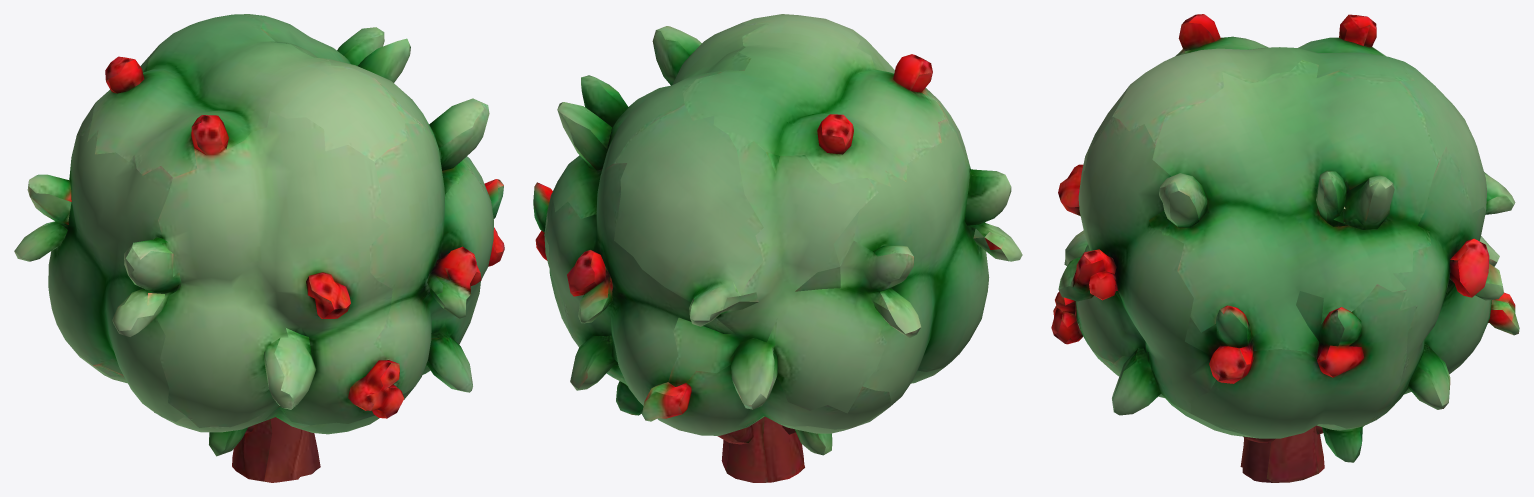
File: bush.glb
3 views of the same model, side by side, from view 1: azimuth 30°, elevation 25°; view 2: azimuth 150°, elevation 25°; view 3: azimuth 270°, elevation 25° (orthographic). The views are drawn at different scales.
Parts seen in each view (by area): view 1: bush_s15; view 2: bush_s15; view 3: bush_s15.
Part boxes in pixels (bbox=[...]): bush_s15: bbox=[14, 14, 504, 482]; bush_s15: bbox=[533, 14, 1022, 482]; bush_s15: bbox=[1051, 14, 1519, 482].
Bounding box in the file's own units: 0.988 × 0.9625 × 1.
Materials: 1 (1 with a texture image).
